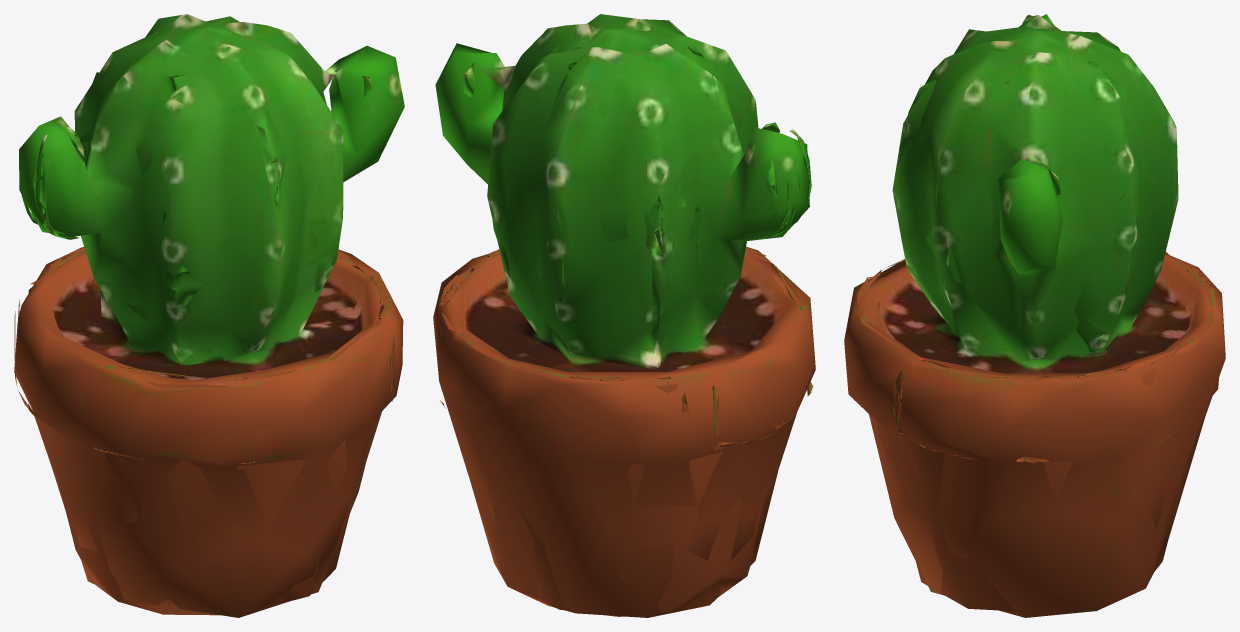
Rendered from cactus.glb.
3 renders of one model, left to right at view 1: azimuth 30°, elevation 25°; view 2: azimuth 150°, elevation 25°; view 3: azimuth 270°, elevation 25°, orthographic.
Size of the model in its own units: 0.6933 by 0.9879 by 0.637.
1 material, 1 textured.
